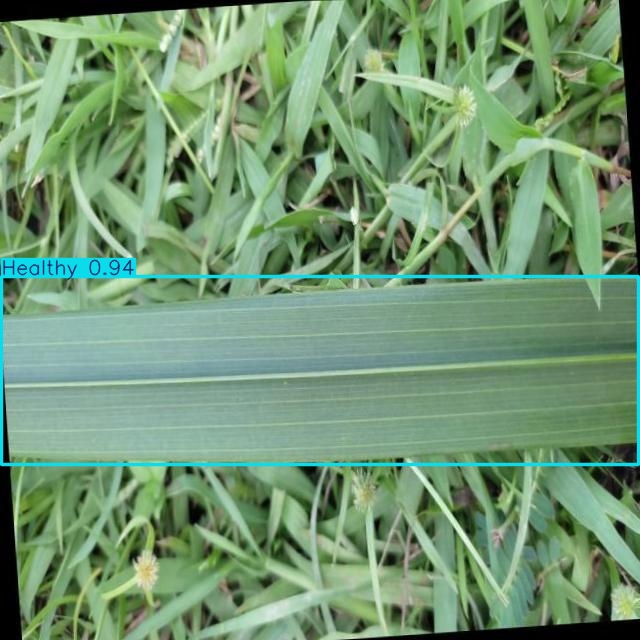Healthy: (1, 276, 639, 465)
